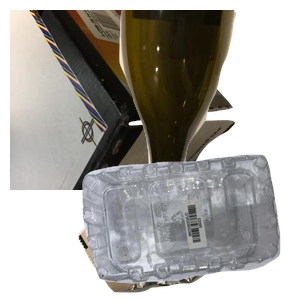cardboard: (10, 10, 238, 190)
glass: (117, 10, 300, 190)
plastic: (80, 152, 300, 300)
trash: (76, 170, 300, 300)
